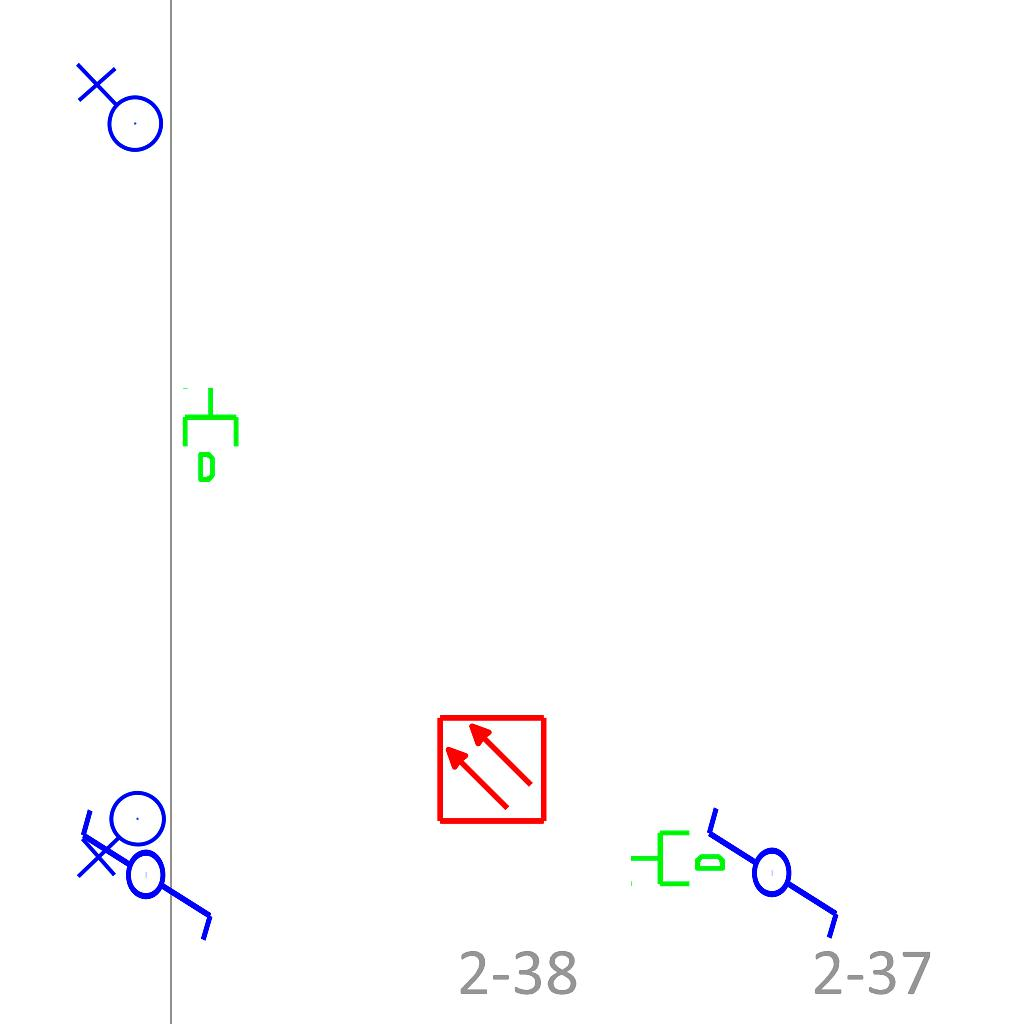Datenanschluss_einfach: (178, 385, 247, 485), (628, 822, 728, 891)
Elektroanschluss_allgemein_230V_Geraeteanschlussdose_230V: (71, 62, 165, 161), (76, 789, 175, 883)
RMO_Rauchmelder_optischer: (435, 713, 548, 826)
Wechselschalter: (76, 788, 220, 945), (702, 786, 846, 943)
